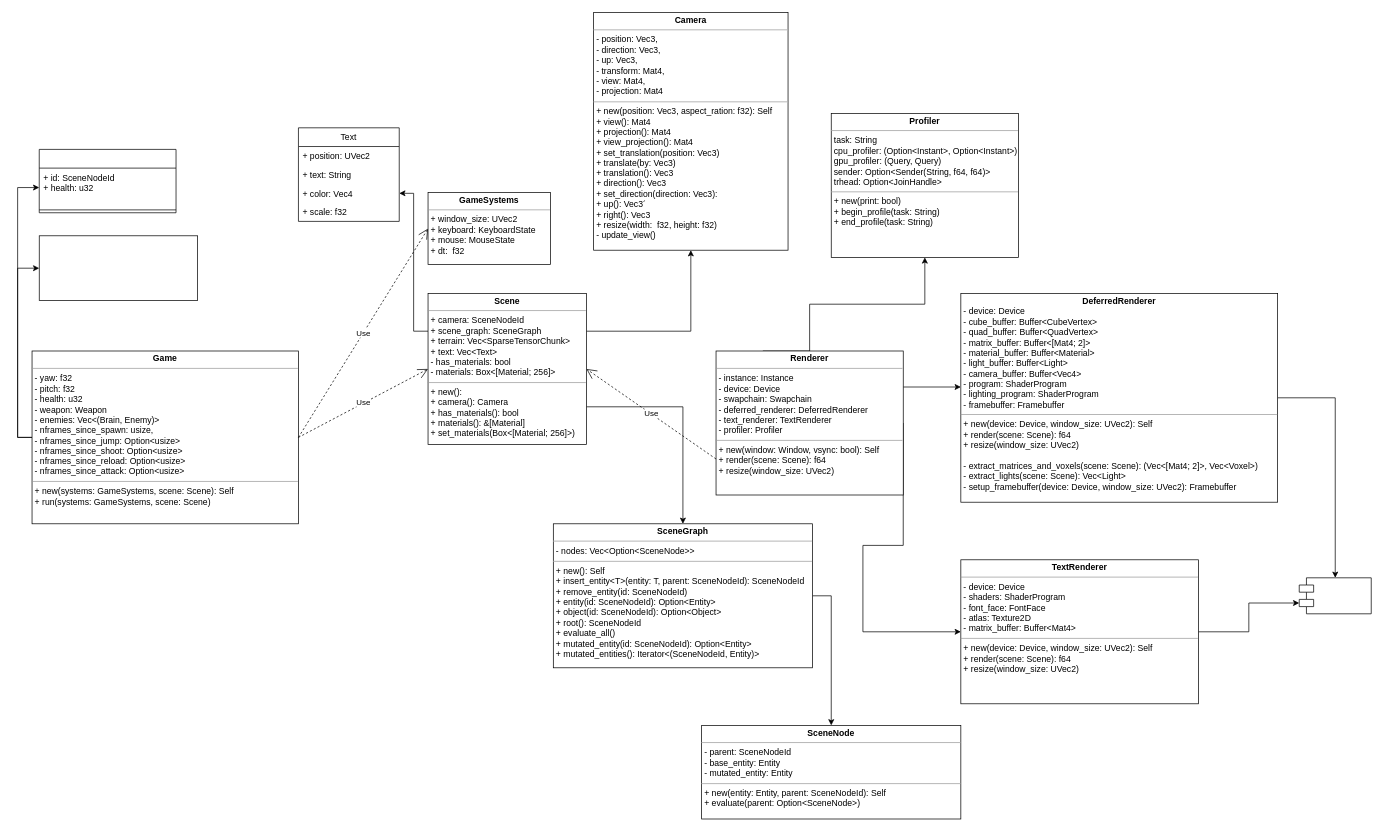
Image size: 1384x832. Some labels were removed from this diagram. The box of each missing label's shape, as (x1, y1, x2, y2) in pixels:
Enemy: (39, 149, 176, 213)
RHI: (1299, 577, 1371, 614)
Weapon:Enum Gun(id: SceneNodeId, ammo: u32) Knife(id: SceneNodeId): (39, 235, 198, 301)
